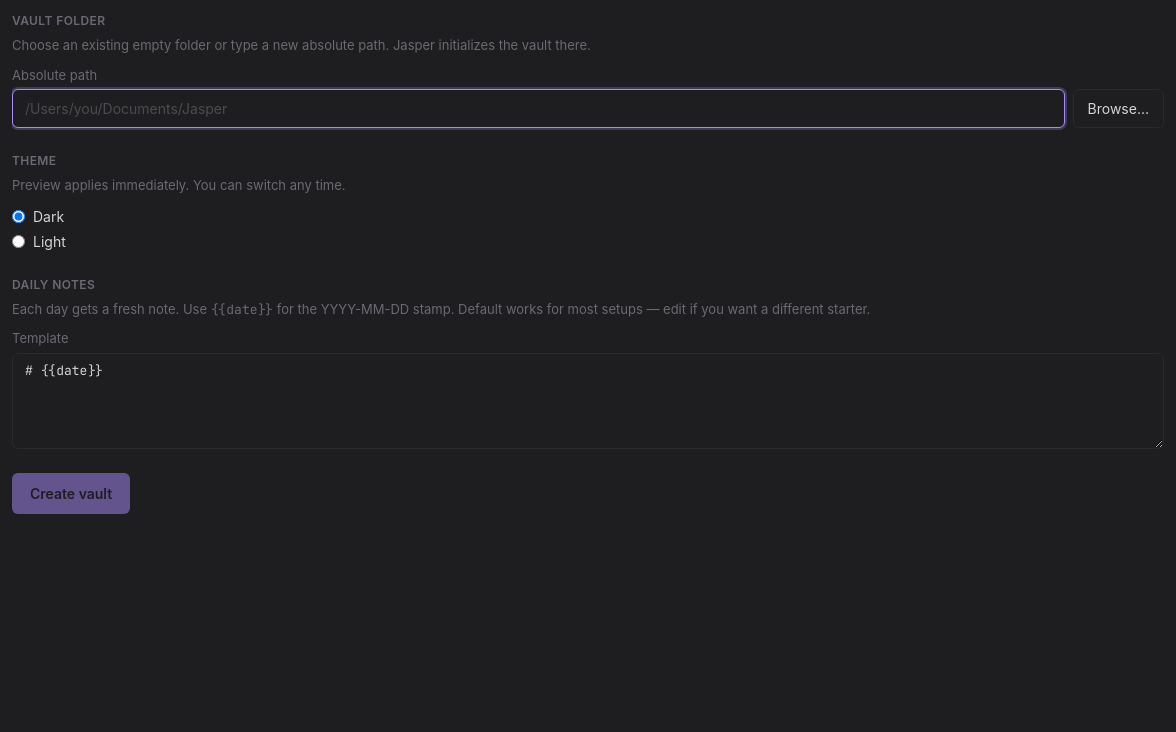
Test: <VaultCreatePane /> › submit enables once path validates
Type "/Users/me/vault" into the field with test id "vault-create-path-input". click: [538, 108]
box: [12,89,1064,128]
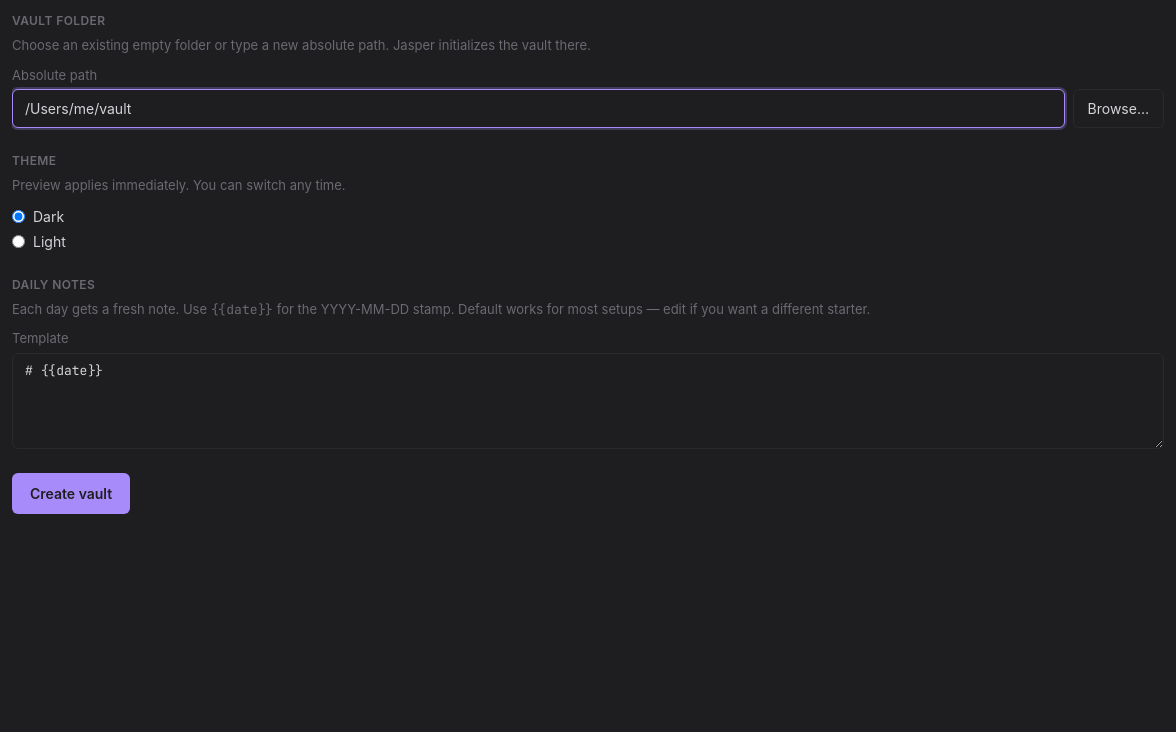
Expected: the button "Create vault" is enabled, [12,472,130,514]
